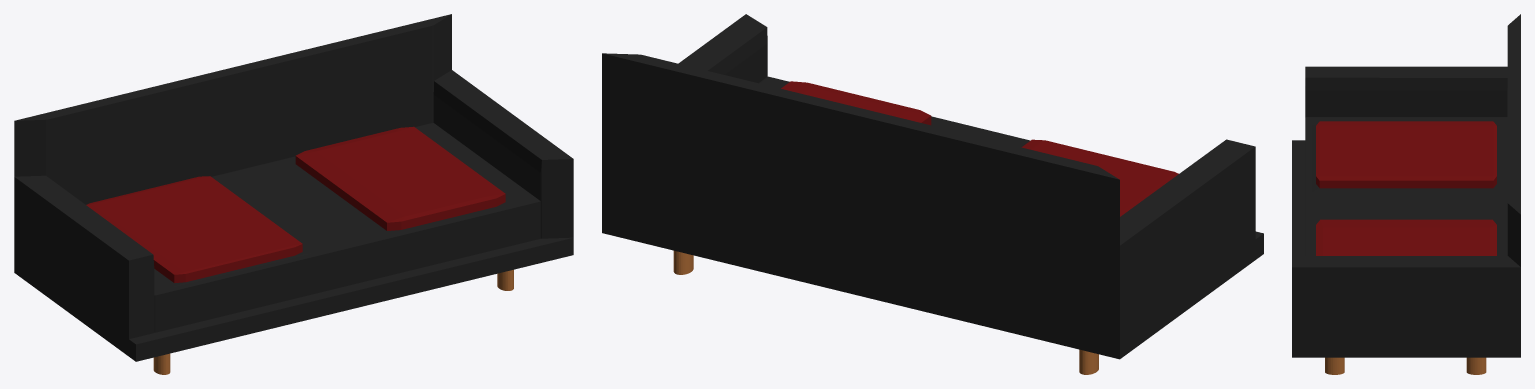
Rendered from Couch.glb.
The picture shows the model from 3 angles, left to right: view 1: azimuth 30°, elevation 25°; view 2: azimuth 150°, elevation 25°; view 3: azimuth 270°, elevation 25°; orthographic projection. The views are drawn at different scales.
Parts seen in each view (by area): view 1: Cube; view 2: Cube; view 3: Cube.
Boxes of the visible parts, x1,y1,x2,y2 form: Cube: (14,14,573,374); Cube: (602,14,1263,374); Cube: (1292,14,1520,374).
Bounding box in the file's own units: 4.15 × 1.76 × 2.
